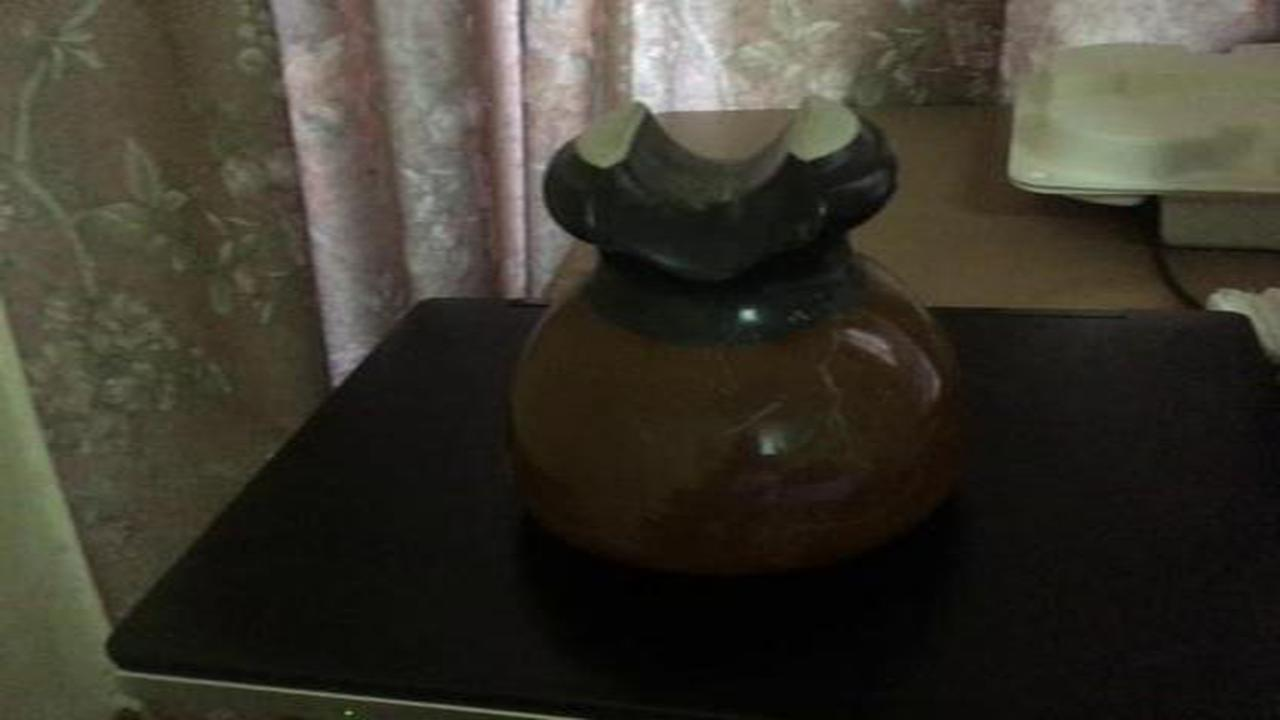insulator_pin: (490, 84, 994, 594)
